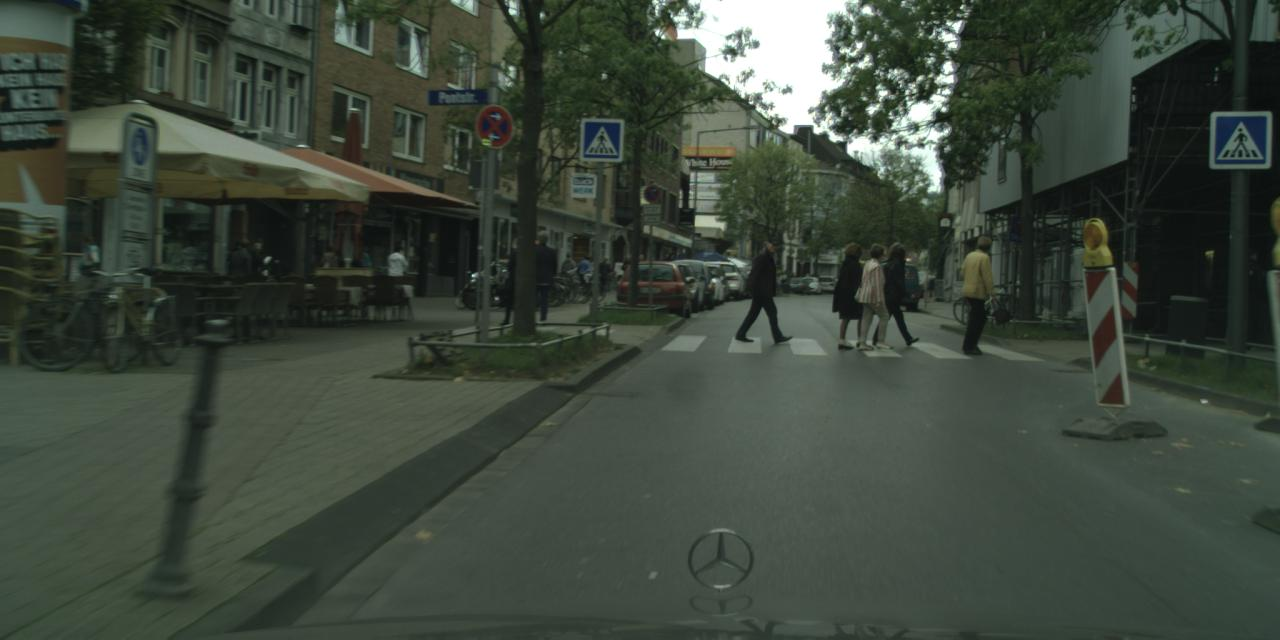ped: (953, 234, 1002, 354), (872, 242, 916, 348), (854, 243, 898, 349), (746, 238, 790, 343), (831, 242, 874, 348), (520, 230, 559, 324), (67, 235, 104, 326), (498, 236, 533, 322), (385, 246, 409, 306), (559, 250, 575, 290), (578, 253, 594, 290), (620, 256, 634, 290), (634, 254, 648, 288), (599, 256, 612, 290), (660, 252, 673, 286), (920, 270, 933, 302), (804, 273, 809, 288)
